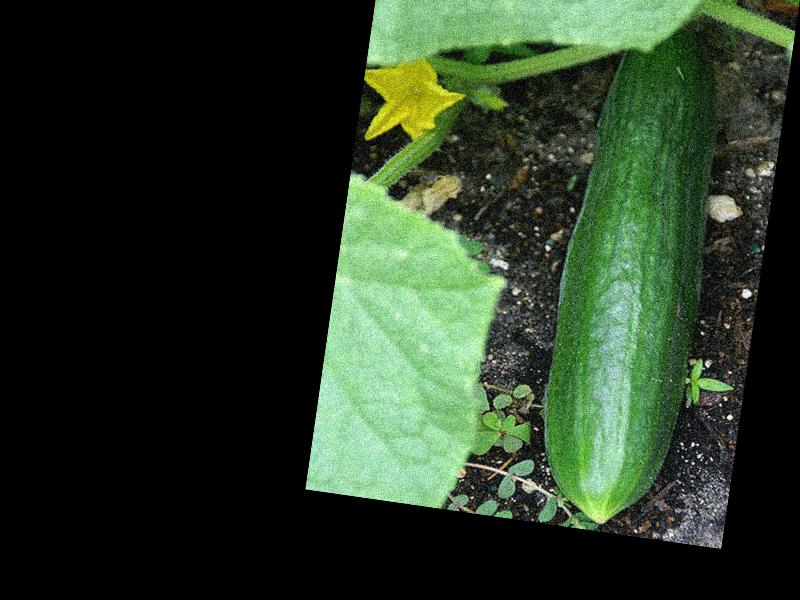Cucumber: (527, 15, 737, 534)
